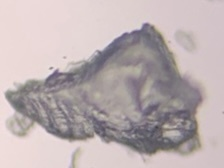microplastic: (3, 23, 204, 160)
